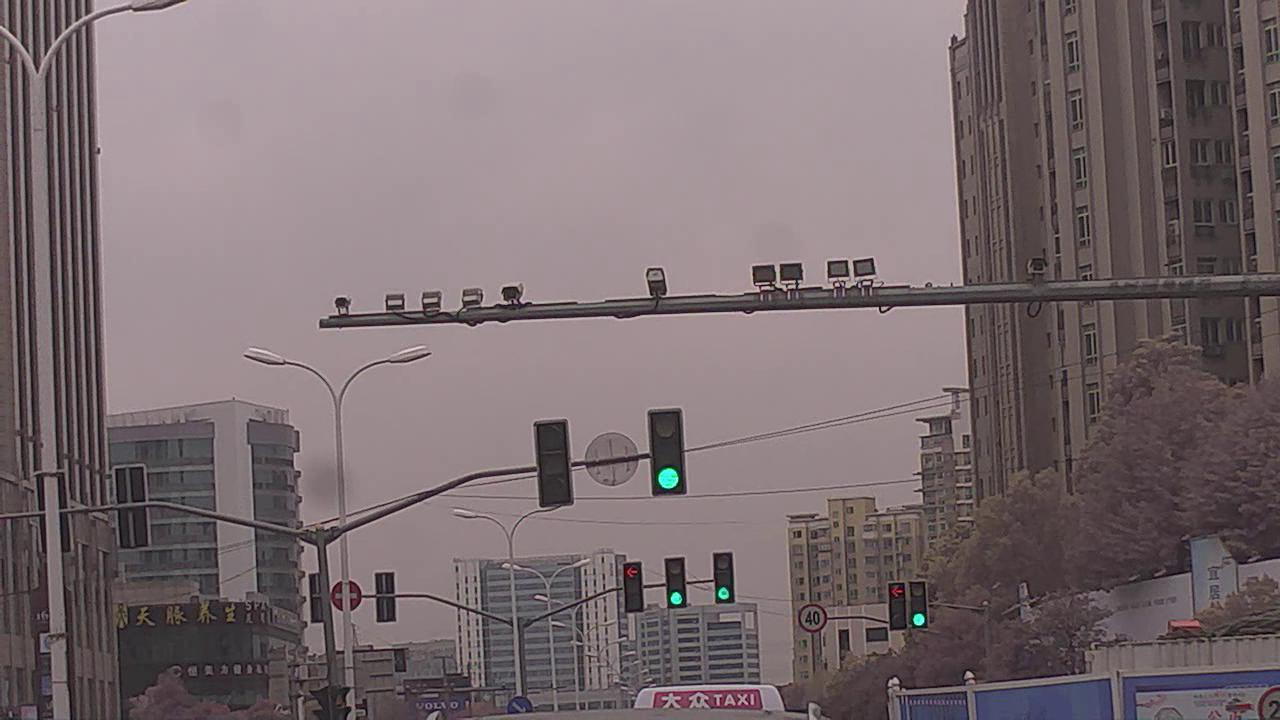traffic_light: (647, 407, 687, 497), (535, 421, 573, 510), (621, 561, 647, 615), (713, 552, 735, 603), (665, 558, 687, 607), (907, 580, 929, 629), (888, 582, 906, 630)
